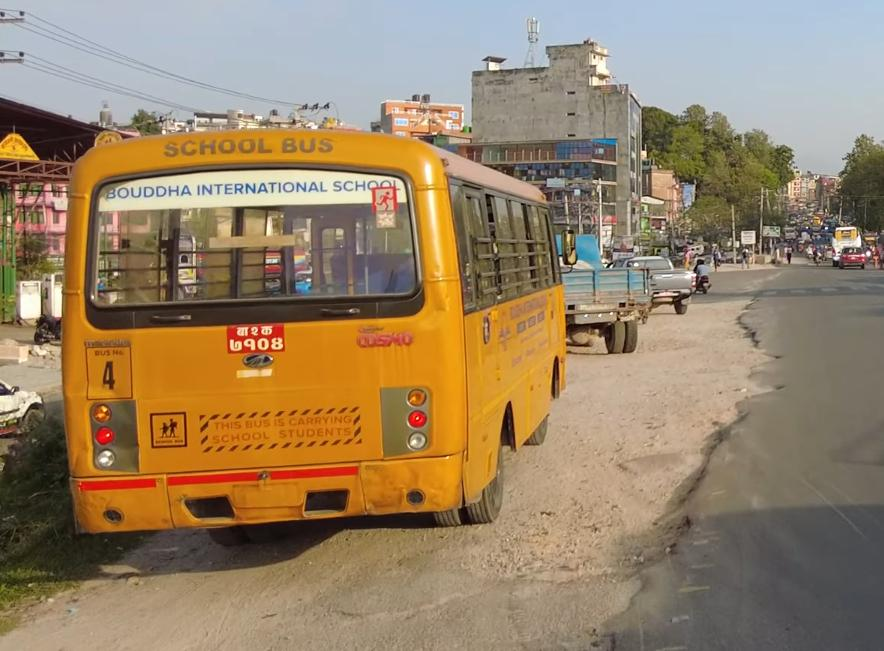car: (837, 243, 866, 271)
mini_truck: (557, 228, 653, 359)
school_bus: (55, 123, 569, 561)
